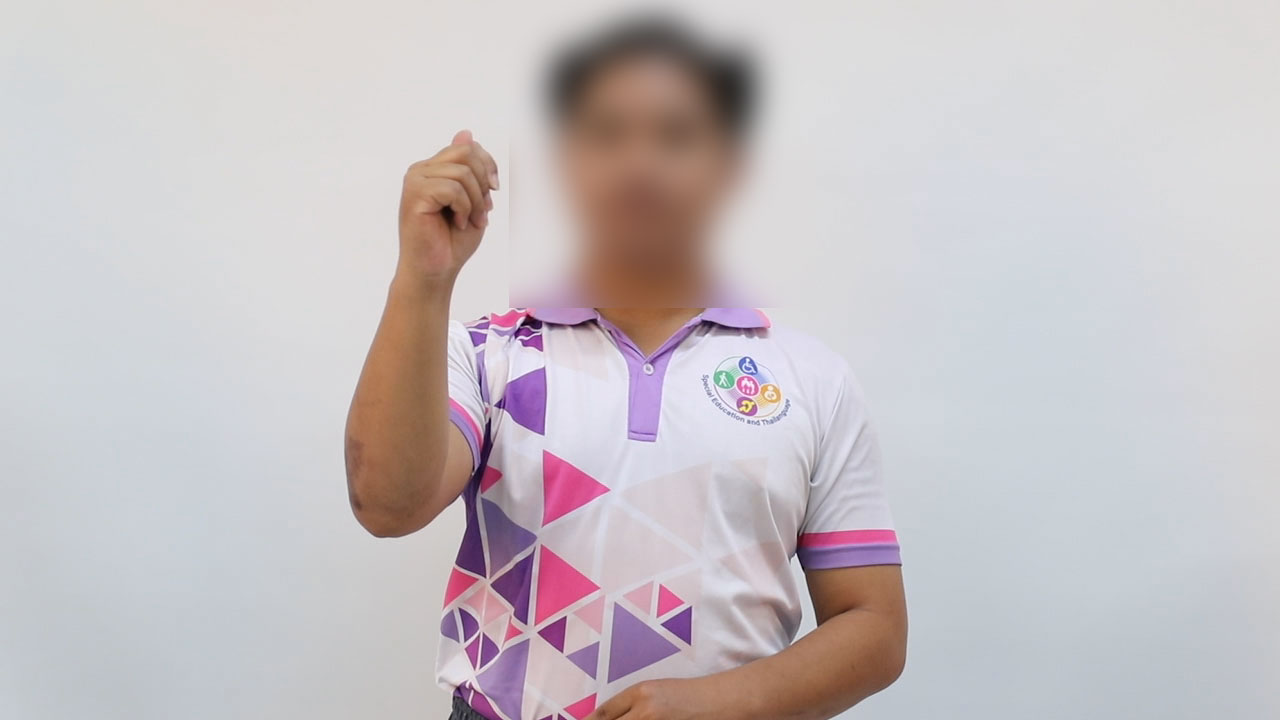tor: (342, 113, 528, 308)
